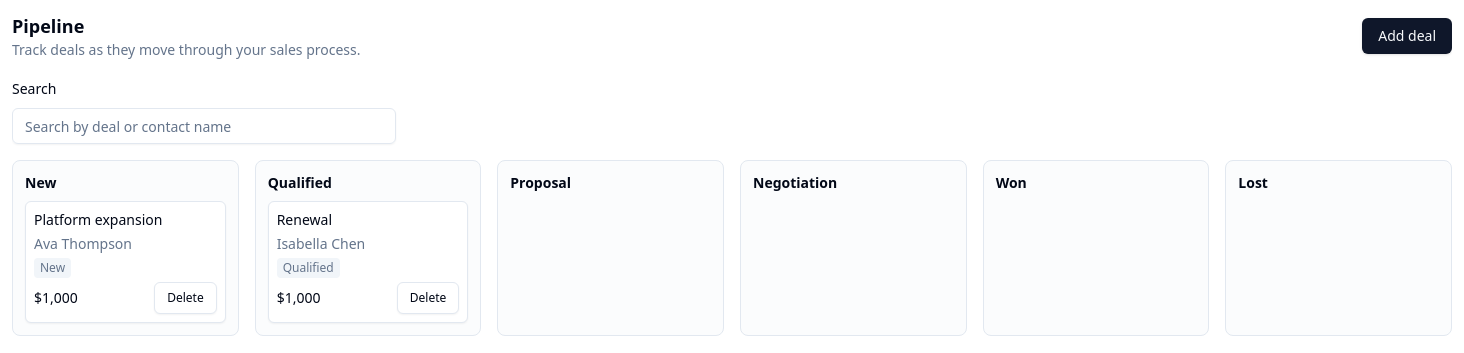
Test case: PipelinePage › filters visible deal cards by search
Check: the button "Platform expansion" is shown, box [34,210,162,230]
Type "Chen" into the field labelled "Search" at (204, 126), box [12,108,396,144]
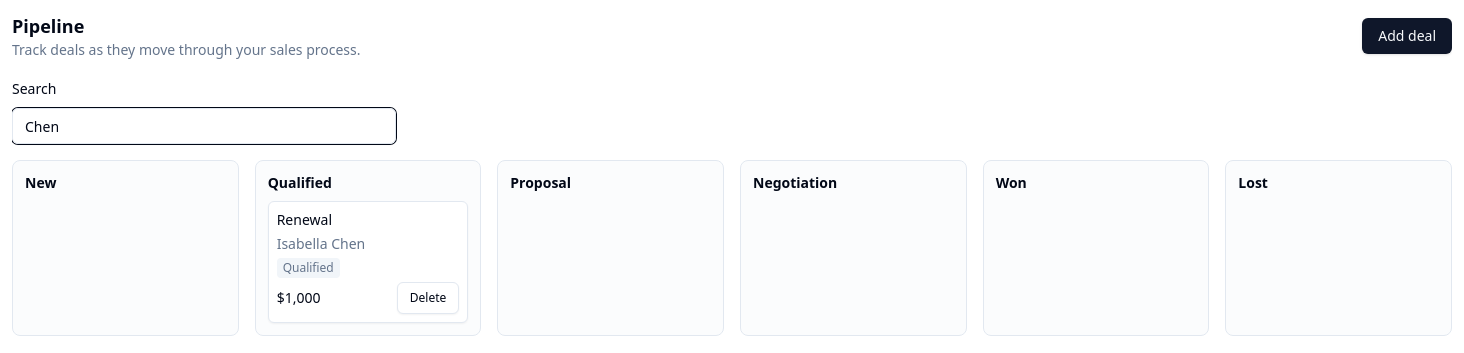
Check: the button "Renewal" is shown, box [277,210,332,230]
Check: the button "Platform expansion" is gone
